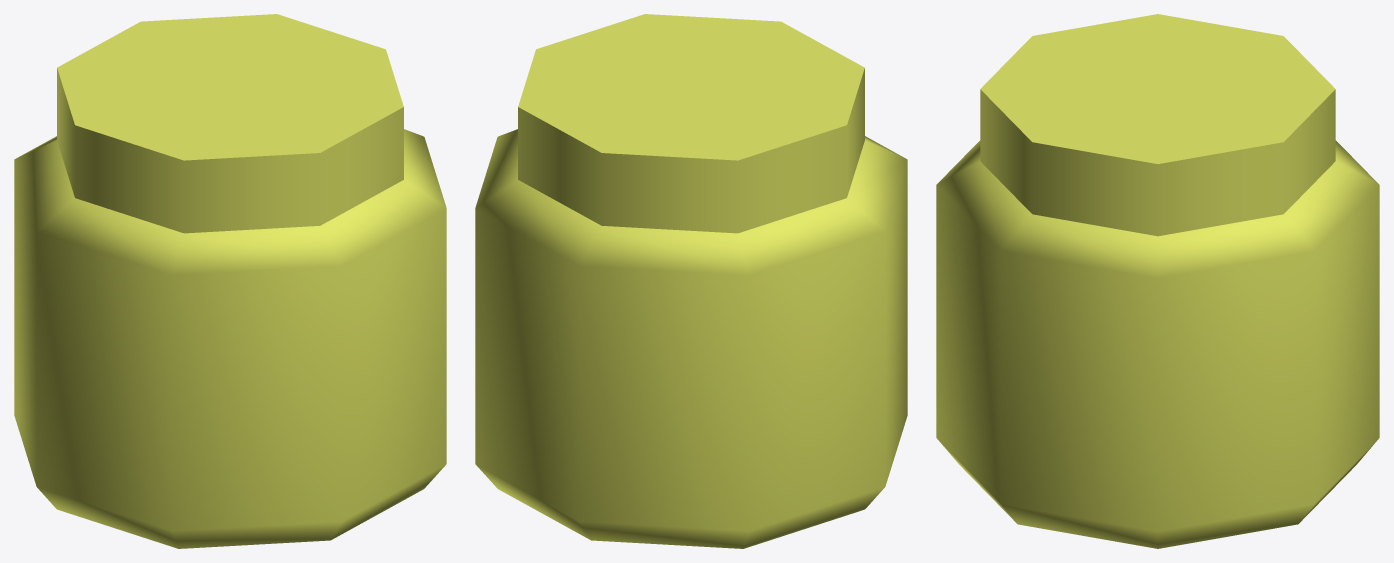
File: li_jar01.fbx
3 renders of one model, left to right at view 1: azimuth 30°, elevation 25°; view 2: azimuth 150°, elevation 25°; view 3: azimuth 270°, elevation 25°, orthographic.
Parts seen in each view (by area): view 1: li_jar01; view 2: li_jar01; view 3: li_jar01.
Boxes of the visible parts, left/top/right/bottom form: li_jar01: left=14, top=14, right=446, bottom=548; li_jar01: left=475, top=14, right=907, bottom=548; li_jar01: left=936, top=14, right=1379, bottom=548.
Size of the model in its own units: 9.51 by 8.9 by 9.51.
